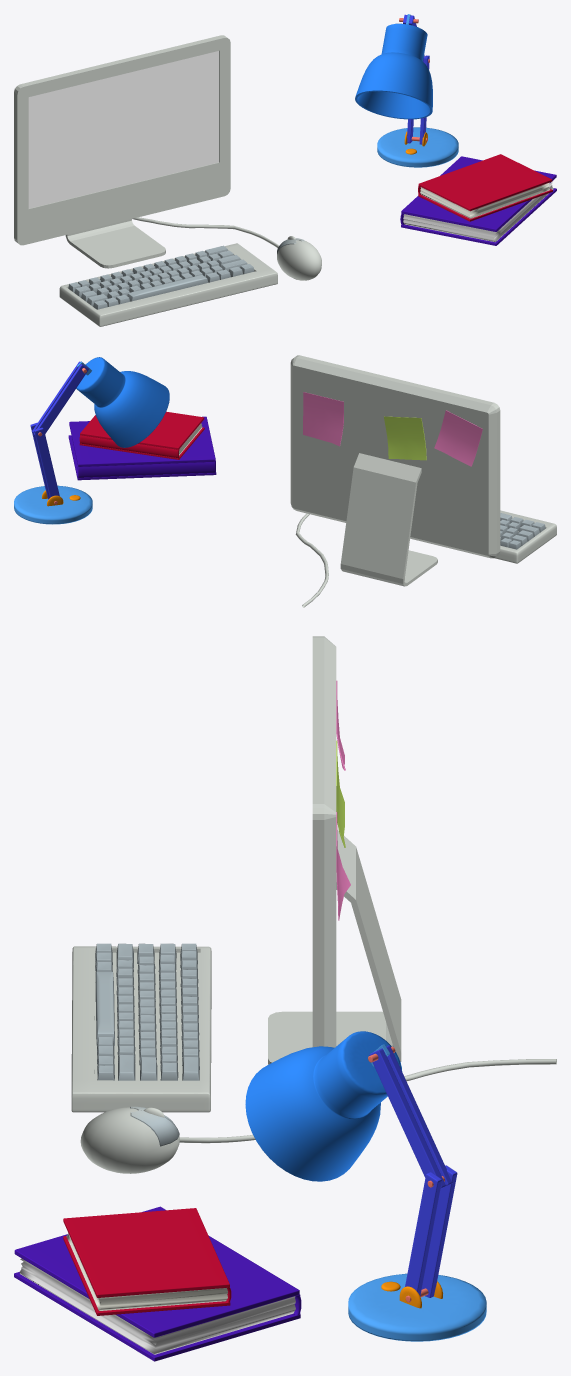
Rendered from Computer.fbx.
The picture shows the model from 3 angles, top to bottom: view 1: azimuth 30°, elevation 25°; view 2: azimuth 150°, elevation 25°; view 3: azimuth 270°, elevation 25°; orthographic projection. The views are drawn at different scales.
Parts seen in each view (by area): view 1: iMac1; view 2: iMac1, Plane, Plane.001, Plane.103; view 3: iMac1.
Boxes of the visible parts, x1,y1,x2,y2 form: iMac1: (14, 14, 556, 326); iMac1: (14, 355, 556, 607); Plane: (303, 392, 343, 446); Plane.001: (434, 410, 482, 466); Plane.103: (384, 416, 426, 460); iMac1: (14, 636, 556, 1361).
Size of the model in its own units: 217 by 86.4 by 122.
